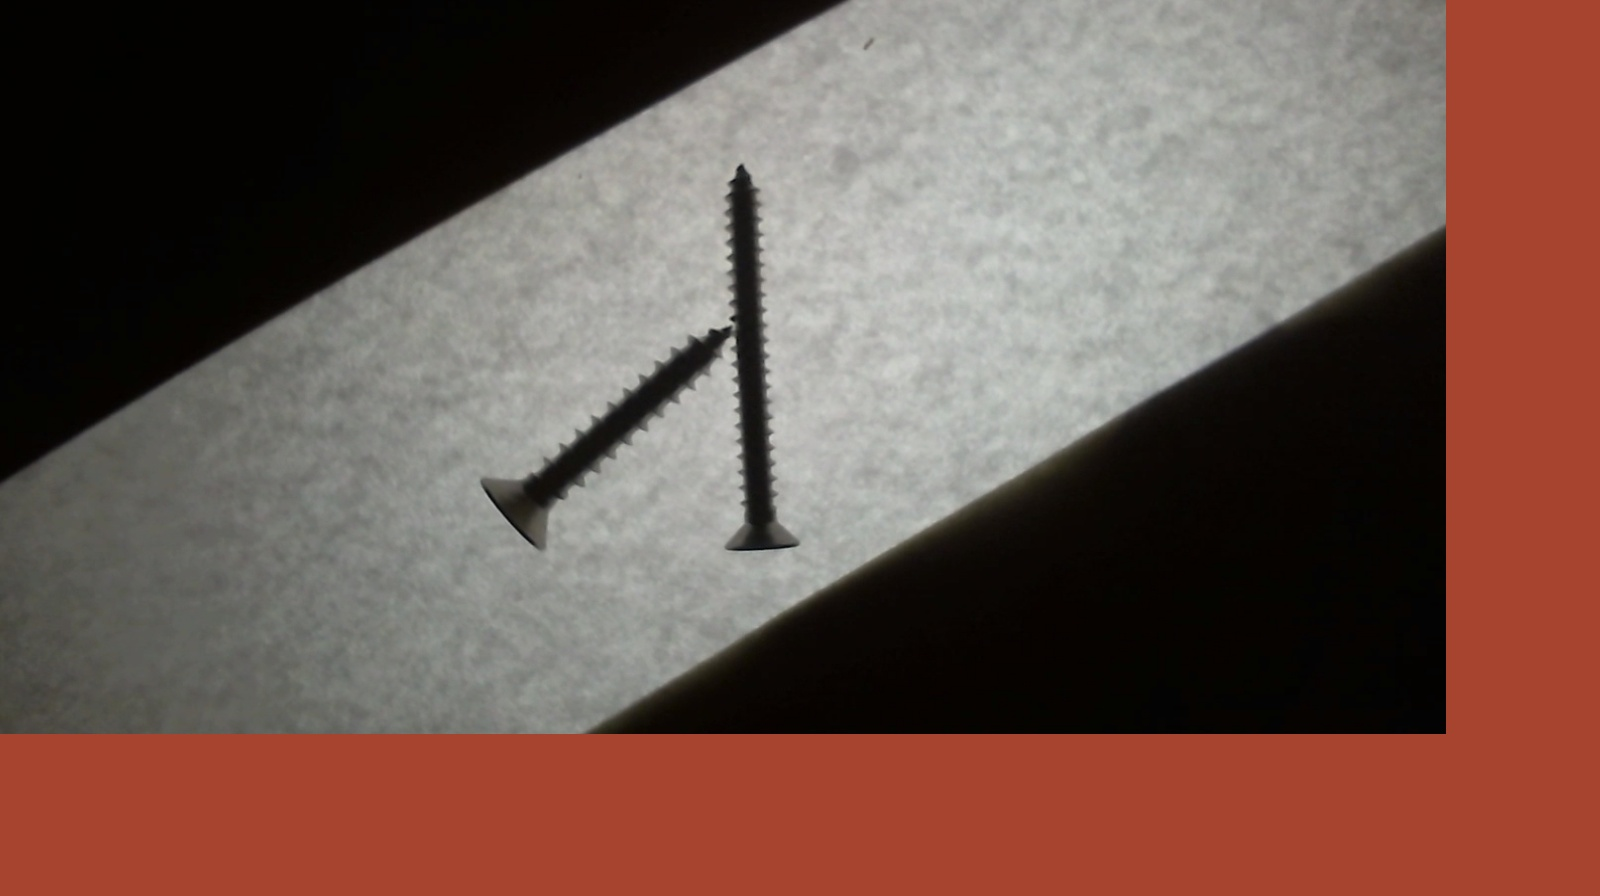S001: (469, 317, 731, 551)
S002: (720, 156, 811, 554)
